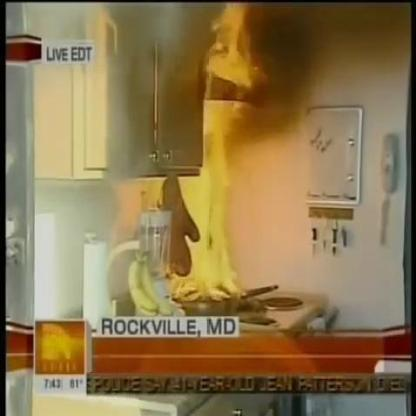fire: (159, 2, 264, 299)
